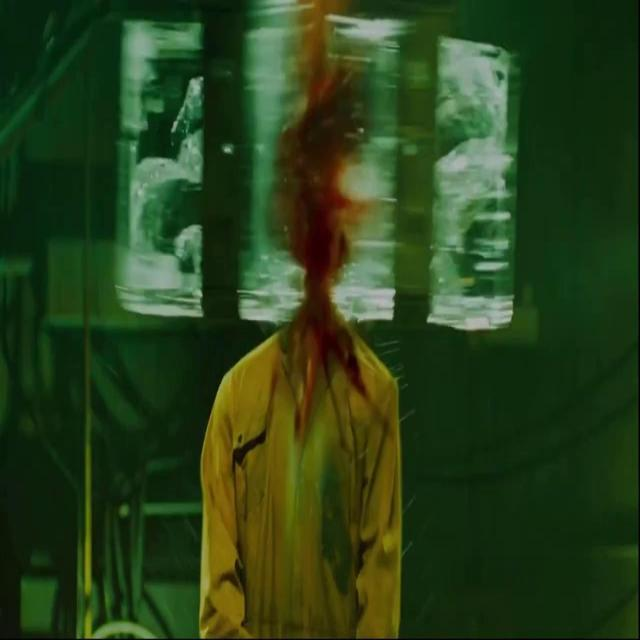flood: (280, 16, 374, 338)
